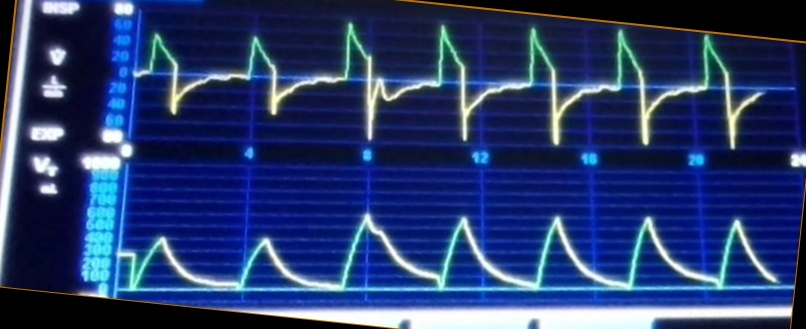Premature_cycling Flow: (139, 15, 765, 147)
Premature_cycling Volume: (119, 210, 778, 298)
